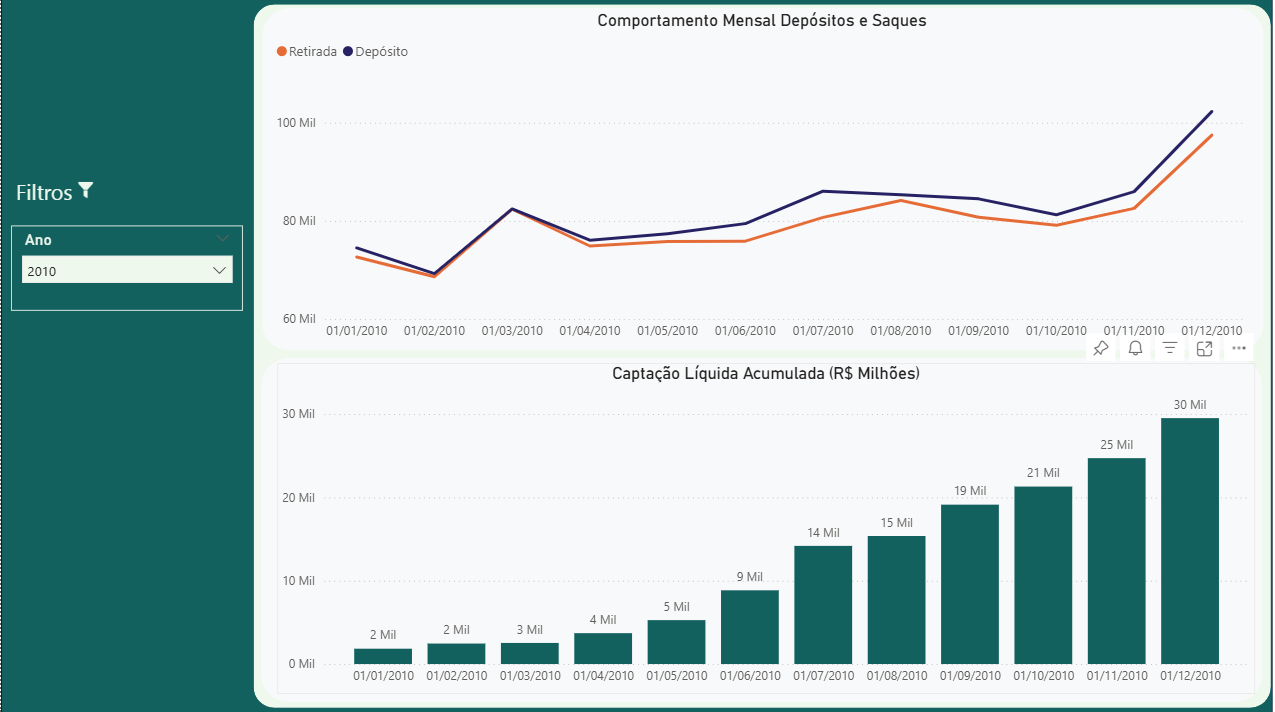

The page's visual inventory and layout, read from the dashboard file:
{"tool":"powerbi","page":{"name":"Análise2","canvas":[1280,720],"ordinal":1},"visuals":[{"type":"shape","box":[0,0,1277.1,720],"z":0},{"type":"textbox","box":[10,175,143.3,48.3],"z":2000},{"type":"image","box":[77,174.9,17.1,36.7],"z":3000},{"type":"shape","box":[253.3,6.7,1021.7,706.7],"z":4000},{"type":"shape","box":[262.9,10,1005.7,344.3],"z":5000},{"type":"shape","box":[261.4,361.4,1005.7,345.7],"z":6000},{"type":"slicer","fields":{"Values":["Calendario.Ano"]},"box":[10,228.6,232.9,85.7],"z":7000},{"type":"clusteredColumnChart","title":"Captação Líquida Acumulada (R$ Milhões)","fields":{"Category":["Planilha1.Periodo"],"Y":["Planilha1.Total acumulado de Soma de Captação Liquida em Periodo"]},"box":[277.5,366.2,981.2,332.5],"z":8000},{"type":"lineChart","title":"Comportamento Mensal Depósitos e Saques","fields":{"Y":["Sum(Comportamento Saques e Depositos.Retirada)","Sum(Comportamento Saques e Depositos.Deposito)"],"Category":["Comportamento Saques e Depositos.Periodo"]},"box":[271.2,12.5,986.2,340],"z":9000}]}

Visuals, with their boxes in screenshot pixels (x1, y1, x2, y2), scaled from the page's 1280x720 canvas onto the 1275x712 screenshot:
shape: l=0, t=0, r=1272, b=711
textbox: l=10, t=173, r=153, b=221
image: l=77, t=173, r=94, b=209
shape: l=252, t=7, r=1270, b=705
shape: l=262, t=10, r=1264, b=350
shape: l=260, t=357, r=1262, b=699
slicer - Calendario.Ano: l=10, t=226, r=242, b=311
"Captação Líquida Acumulada (R$ Milhões)" clusteredColumnChart: l=276, t=362, r=1254, b=691
"Comportamento Mensal Depósitos e Saques" lineChart: l=270, t=12, r=1252, b=349
